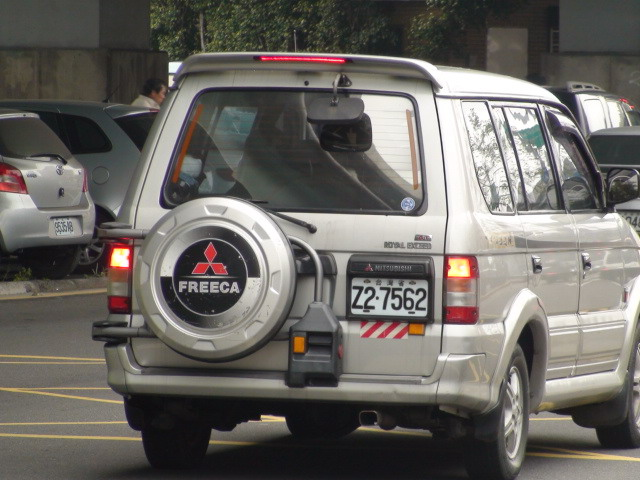plate: (346, 274, 433, 321)
